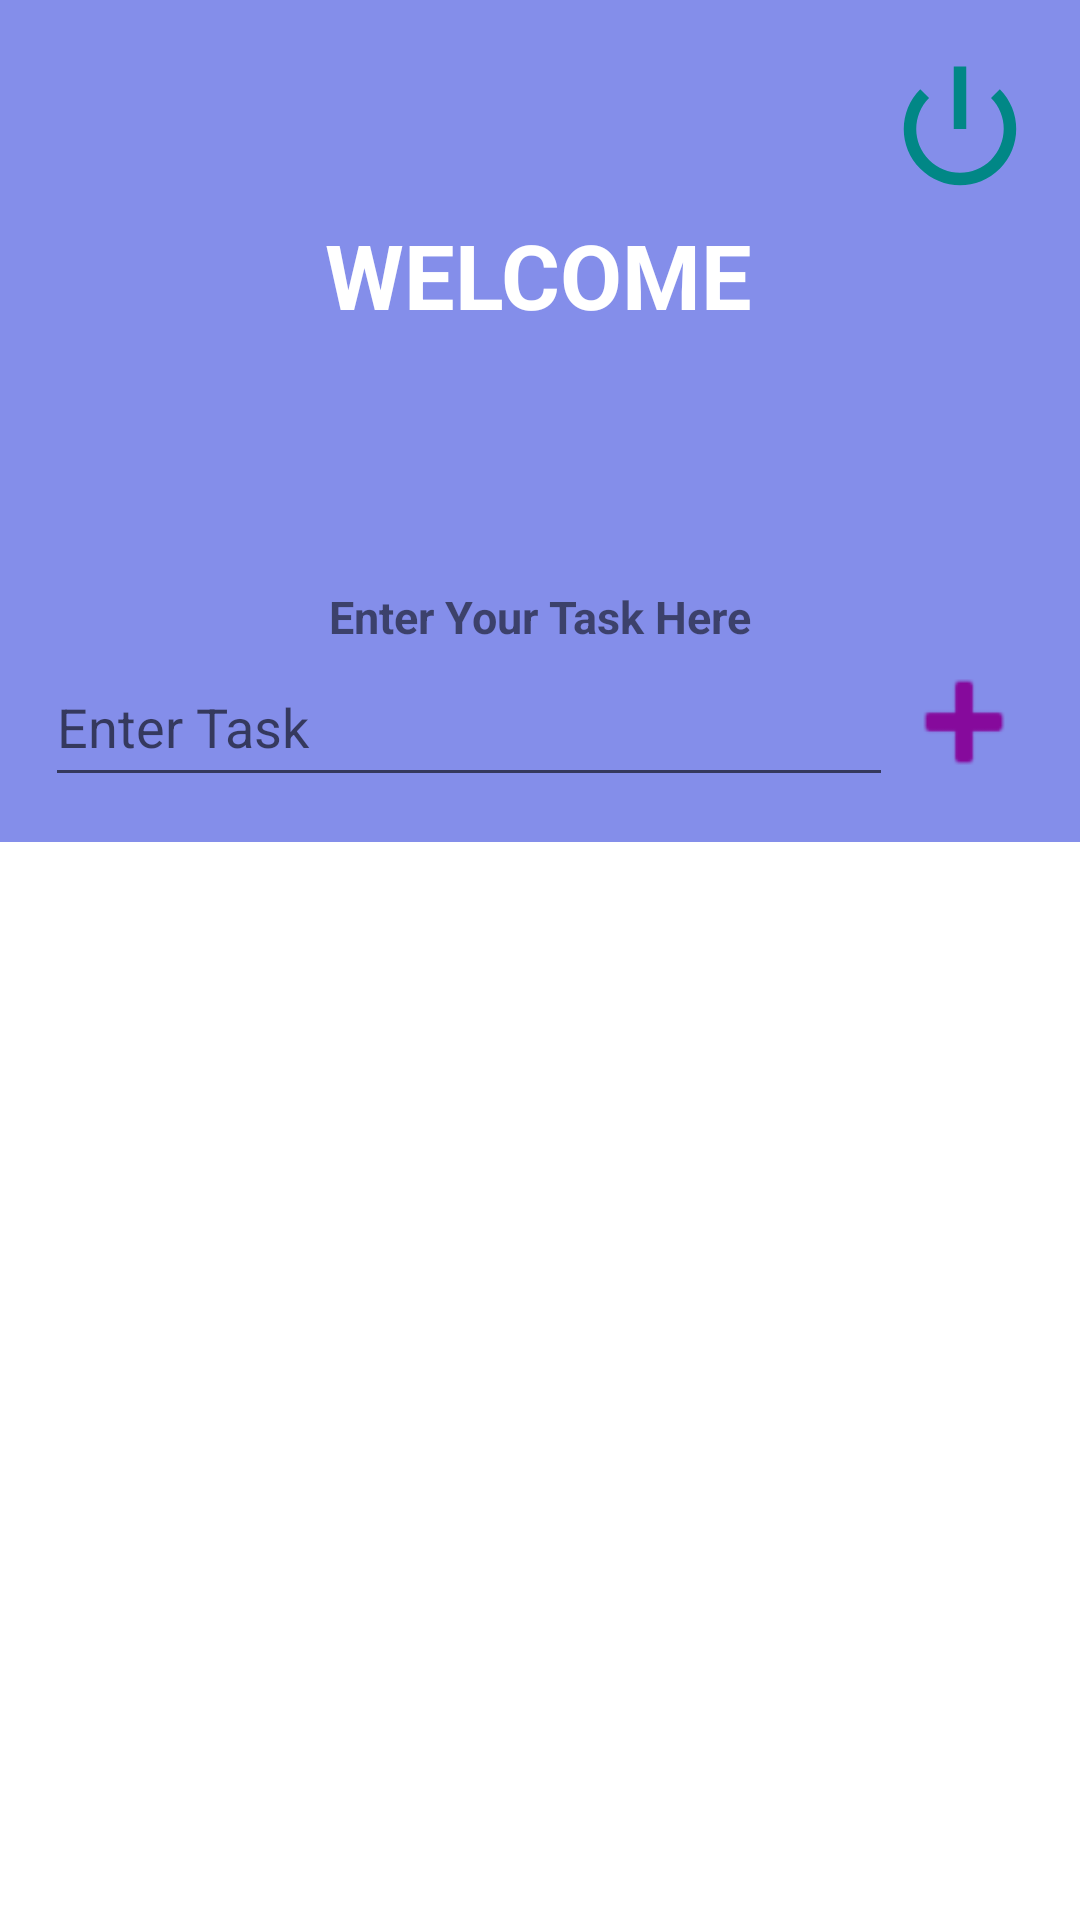

Named icons in this screenshot (1080px×1920px) and their bounding boxes, (x1, y1, x2, y2):
add: (924, 680, 1004, 764)
lock power off: (903, 66, 1016, 186)
